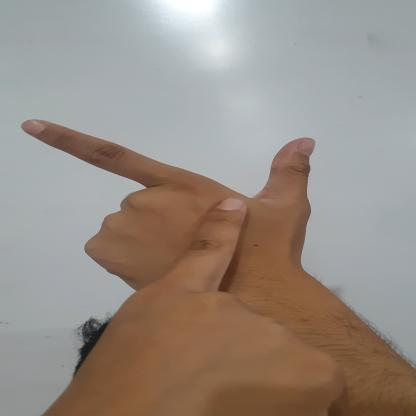Y: (19, 119, 318, 330)
